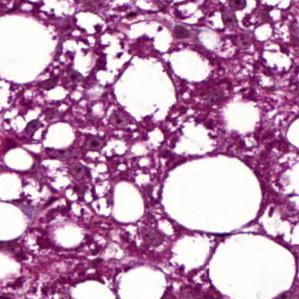steatosis: (3, 148, 37, 173), (288, 118, 299, 151)
